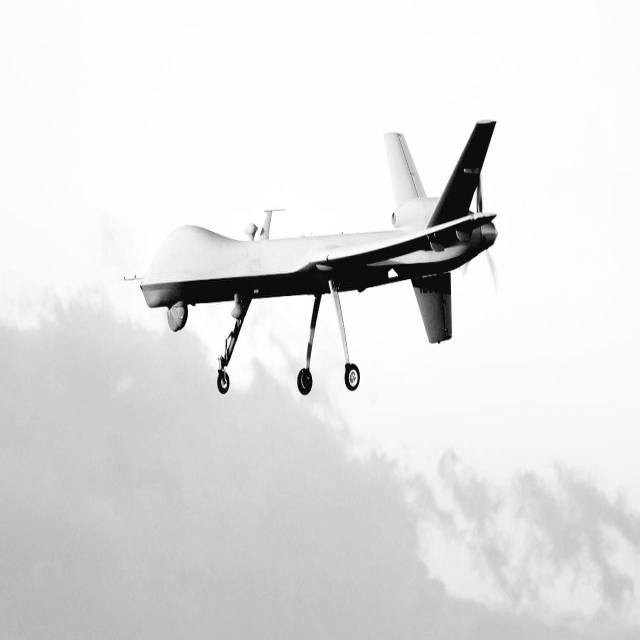iha: (60, 57, 497, 390)
